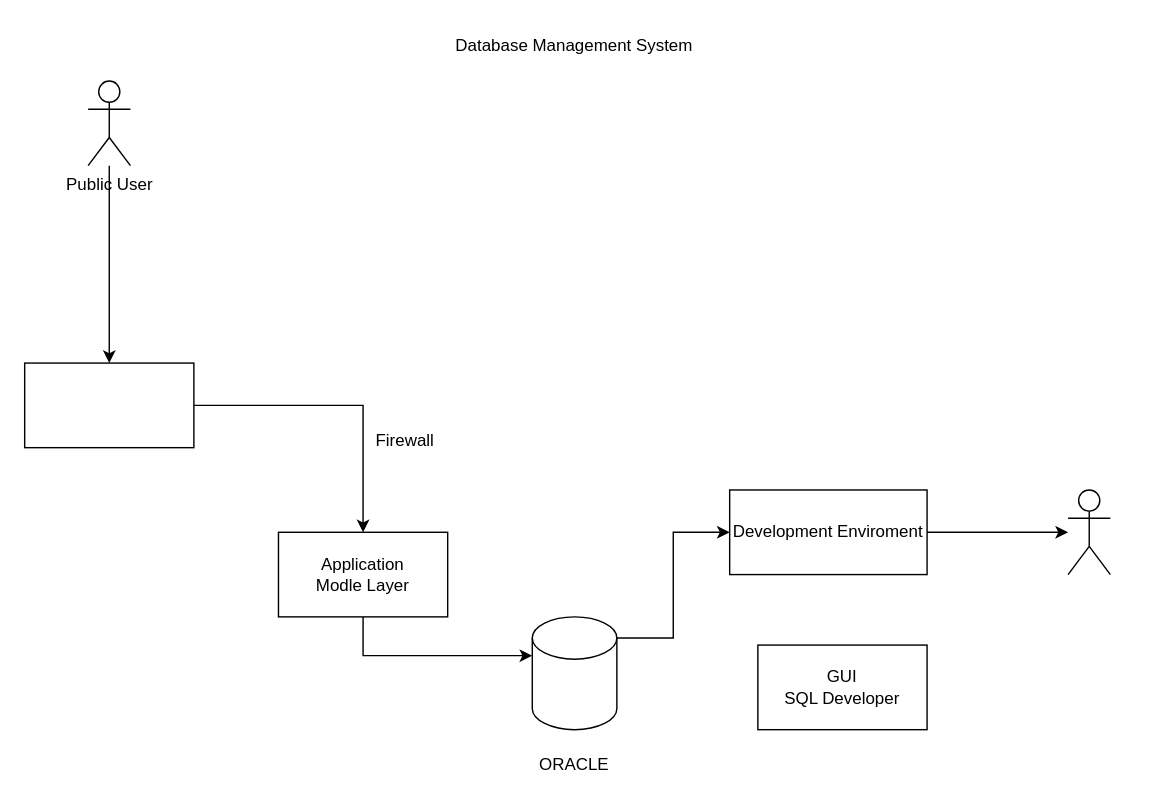
The diagram is 1152 pixels wide and 809 high, and some of its shapes have lost their labels. Here are the shapes that lost their labels. From the top down, the box of each, then its label:
(23, 362, 194, 448): APP UI View
(1067, 489, 1110, 575): Developer
